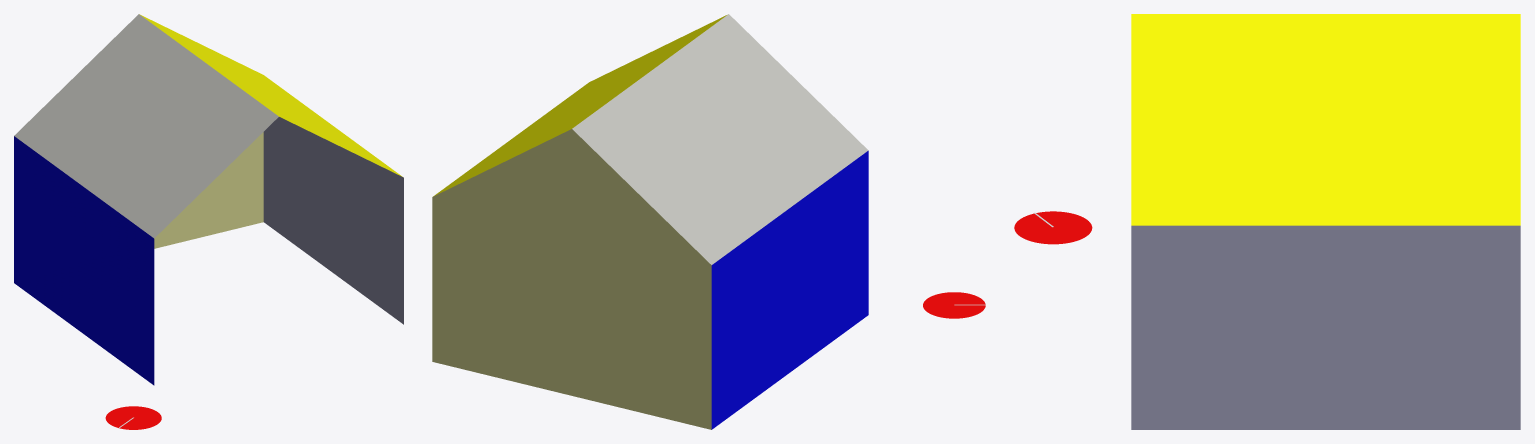
Rendered from result.glb.
3 views of the same model, side by side, from view 1: azimuth 30°, elevation 25°; view 2: azimuth 150°, elevation 25°; view 3: azimuth 270°, elevation 25° (orthographic). The views are drawn at different scales.
Parts seen in each view (by area): view 1: f9fa53cb-de17-4a87-a431-57541c3a6917__undefined, 4bb18980-9e1e-4edc-8e80-3769ef39299d__undefined, f8094961-65d2-4582-8b14-c93f8a9a64f4__undefined, 5cd54bdf-f882-41c4-8e0a-db6f90af175b__undefined, 9121fd8a-bf32-4c4a-9295-924e30fe81b4__undefined, b17e2fa6-dc31-43f4-96b8-51e5b7888bda__Circle; view 2: 5cd54bdf-f882-41c4-8e0a-db6f90af175b__undefined, f9fa53cb-de17-4a87-a431-57541c3a6917__undefined, 4bb18980-9e1e-4edc-8e80-3769ef39299d__undefined, 9121fd8a-bf32-4c4a-9295-924e30fe81b4__undefined, b17e2fa6-dc31-43f4-96b8-51e5b7888bda__Circle; view 3: 9121fd8a-bf32-4c4a-9295-924e30fe81b4__undefined, f8094961-65d2-4582-8b14-c93f8a9a64f4__undefined, b17e2fa6-dc31-43f4-96b8-51e5b7888bda__Circle.
Part boxes in pixels (x1,y1,x2,y2): f9fa53cb-de17-4a87-a431-57541c3a6917__undefined: [14, 14, 278, 238]; 4bb18980-9e1e-4edc-8e80-3769ef39299d__undefined: [14, 136, 154, 385]; f8094961-65d2-4582-8b14-c93f8a9a64f4__undefined: [263, 117, 403, 324]; 5cd54bdf-f882-41c4-8e0a-db6f90af175b__undefined: [154, 132, 263, 248]; 9121fd8a-bf32-4c4a-9295-924e30fe81b4__undefined: [139, 14, 402, 176]; b17e2fa6-dc31-43f4-96b8-51e5b7888bda__Circle: [105, 406, 161, 429]; 5cd54bdf-f882-41c4-8e0a-db6f90af175b__undefined: [432, 129, 711, 429]; f9fa53cb-de17-4a87-a431-57541c3a6917__undefined: [572, 14, 868, 264]; 4bb18980-9e1e-4edc-8e80-3769ef39299d__undefined: [711, 150, 868, 429]; 9121fd8a-bf32-4c4a-9295-924e30fe81b4__undefined: [433, 15, 726, 196]; b17e2fa6-dc31-43f4-96b8-51e5b7888bda__Circle: [923, 292, 985, 318]; 9121fd8a-bf32-4c4a-9295-924e30fe81b4__undefined: [1131, 14, 1520, 225]; f8094961-65d2-4582-8b14-c93f8a9a64f4__undefined: [1131, 225, 1520, 429]; b17e2fa6-dc31-43f4-96b8-51e5b7888bda__Circle: [1014, 211, 1092, 244].
Bounding box in the file's own units: 664 × 469 × 650.
